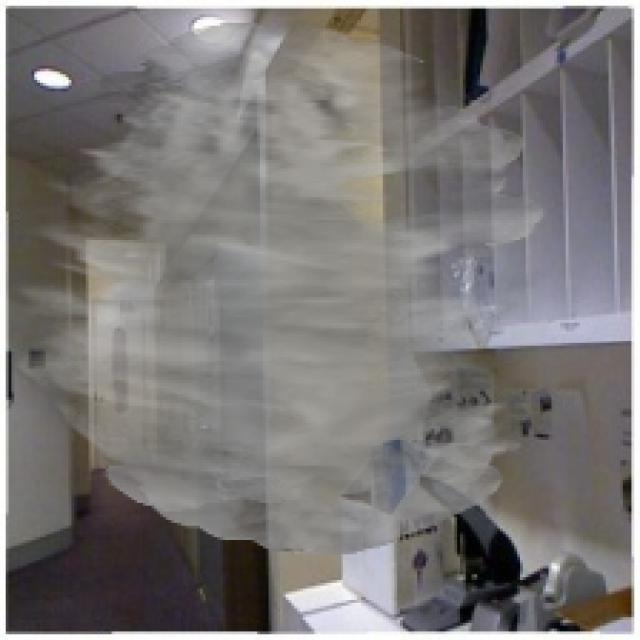Smoke: (6, 19, 546, 554)
